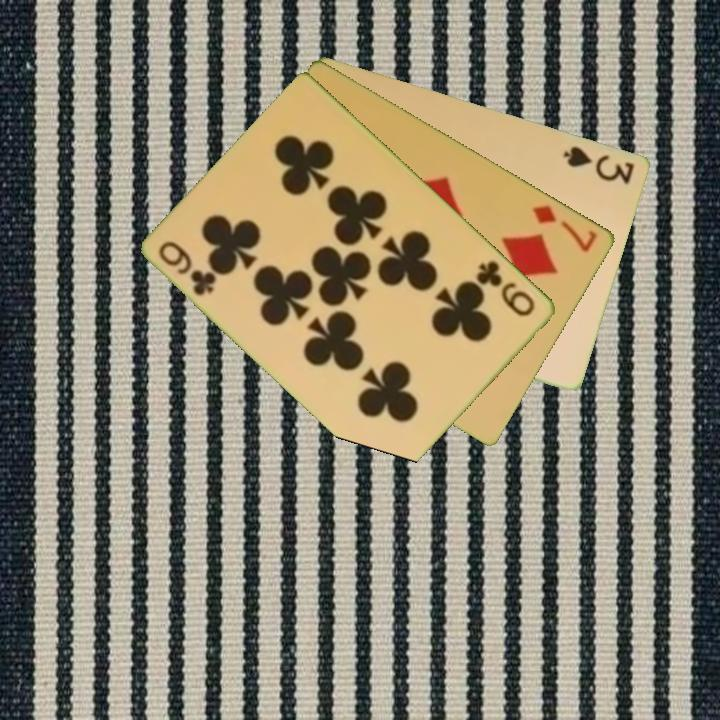3s: (560, 142, 638, 188)
7d: (529, 201, 601, 255)
9c: (473, 256, 539, 320), (155, 237, 220, 299)
